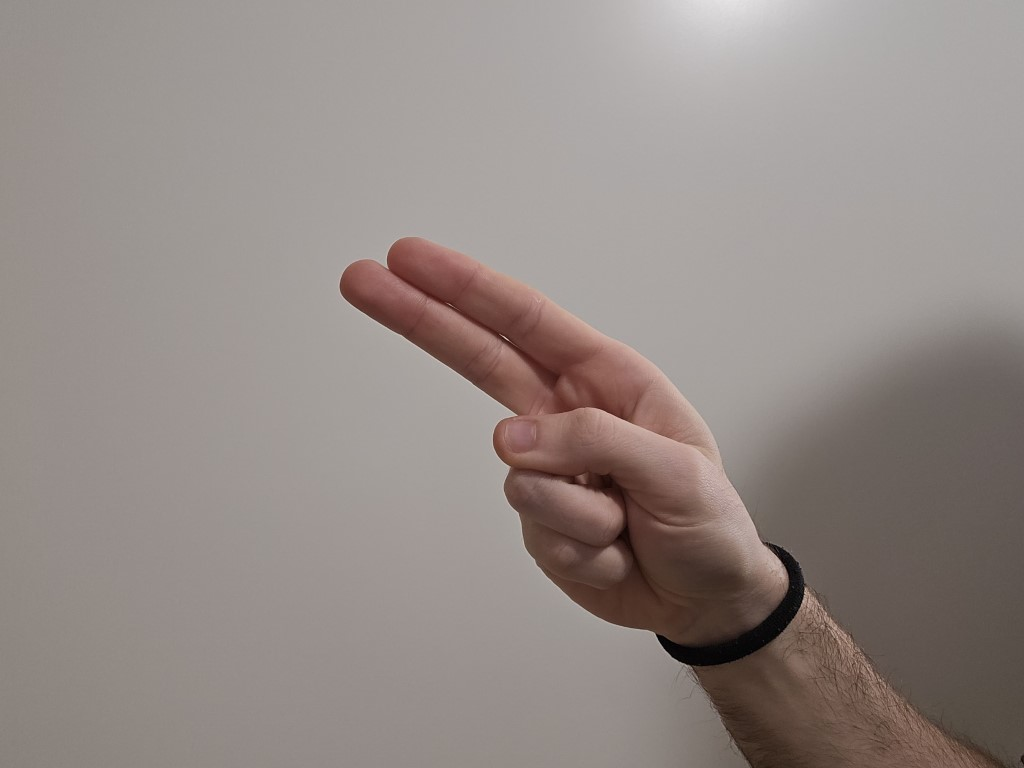h: (320, 215, 750, 623)
